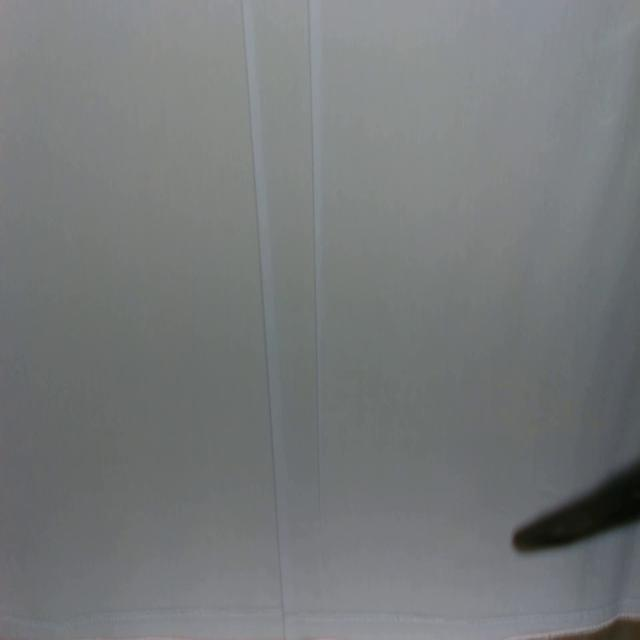crease: (242, 0, 288, 633), (307, 0, 323, 521)
